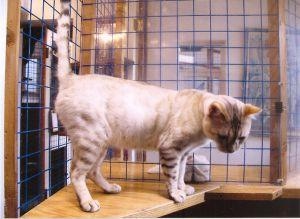bengal: (201, 97, 268, 159)
